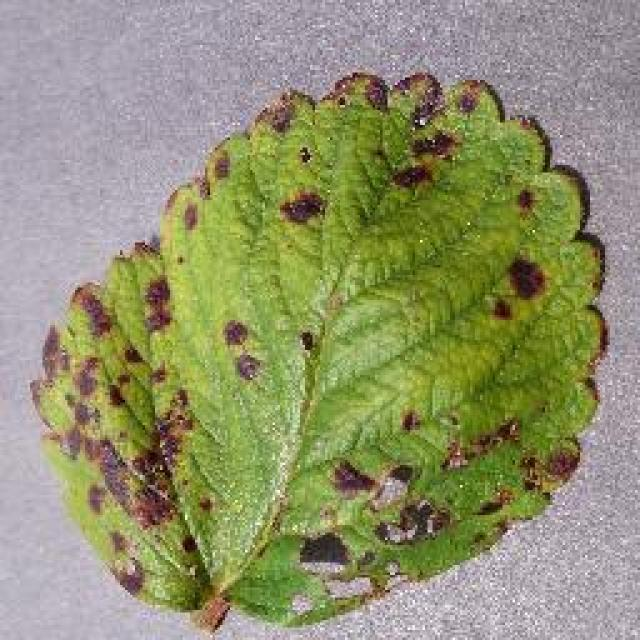Strawberry leaf scorch: (68, 300, 547, 505)
